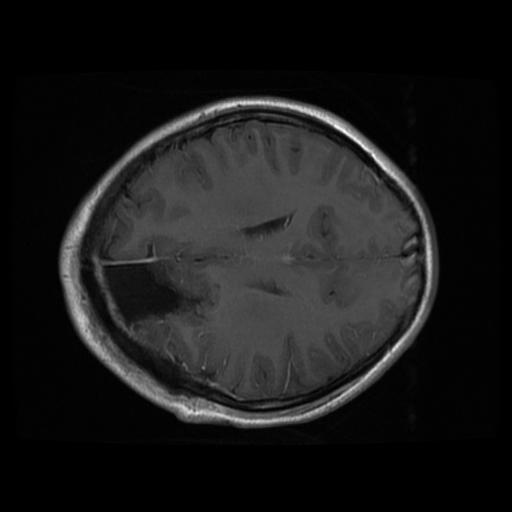glioma: (102, 240, 221, 329)
